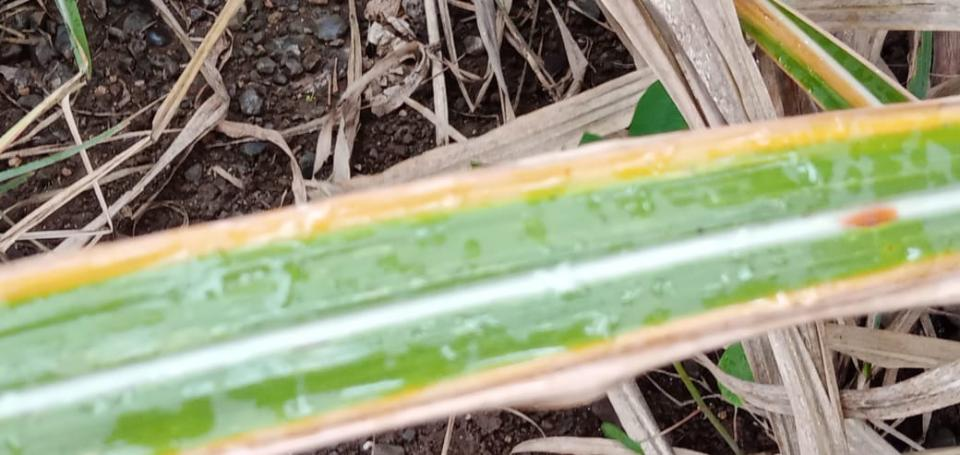RedRot: (840, 207, 901, 228)
Yellow: (0, 96, 959, 313), (172, 258, 959, 454), (729, 0, 874, 109)
